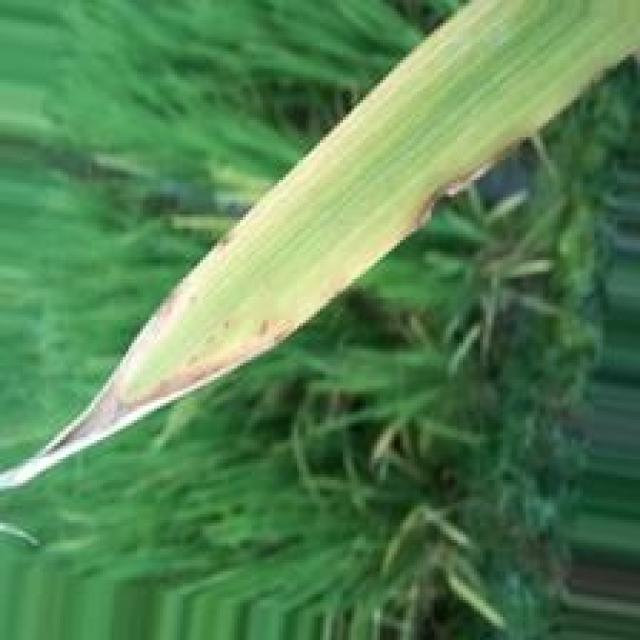Rice False Smut: (44, 220, 298, 462)
